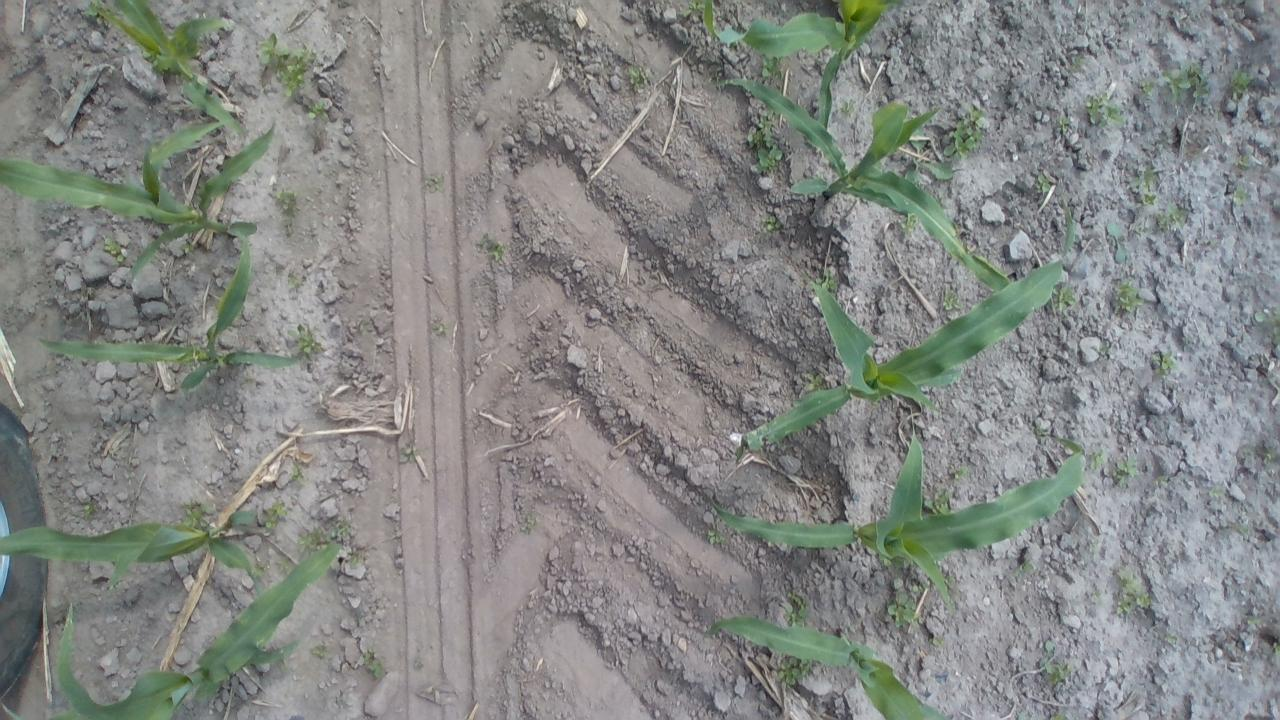Maize: (725, 193, 1075, 461), (707, 74, 1024, 302), (708, 430, 1092, 606), (0, 530, 349, 720), (38, 218, 327, 395), (1, 116, 284, 276), (698, 0, 914, 143), (706, 608, 962, 720), (89, 0, 254, 143), (0, 500, 270, 580)
Weeds: (256, 36, 320, 93), (939, 104, 988, 162), (746, 112, 785, 182), (1160, 62, 1212, 101), (1114, 566, 1152, 618), (1037, 639, 1076, 687), (1081, 87, 1126, 128), (289, 325, 327, 363), (886, 589, 919, 630), (1101, 221, 1130, 266), (622, 60, 658, 95), (1152, 202, 1186, 239), (776, 654, 816, 685), (1108, 280, 1144, 313), (356, 644, 385, 683), (180, 498, 213, 532), (296, 524, 328, 558), (1130, 168, 1158, 206), (268, 188, 302, 219), (780, 600, 815, 630), (474, 228, 506, 260), (1050, 286, 1083, 314), (1034, 168, 1062, 200), (1114, 458, 1140, 492), (813, 264, 840, 296), (676, 1, 721, 20), (1151, 351, 1178, 382), (105, 239, 132, 270), (1228, 66, 1254, 98), (401, 439, 430, 467), (924, 486, 954, 512), (762, 52, 789, 80), (263, 502, 290, 530), (82, 0, 110, 26), (286, 268, 313, 294), (420, 173, 450, 196), (894, 212, 920, 238), (798, 371, 826, 394), (940, 292, 966, 316), (908, 574, 934, 598), (1268, 304, 1280, 354), (307, 640, 338, 659), (1016, 710, 1074, 720), (346, 550, 370, 574), (1010, 560, 1036, 582), (759, 214, 780, 240), (1136, 70, 1154, 100), (1062, 54, 1084, 78), (1084, 449, 1108, 471), (520, 508, 540, 534), (331, 518, 350, 544), (839, 96, 860, 118), (311, 100, 332, 122), (286, 461, 307, 482), (1263, 445, 1280, 470), (708, 522, 724, 548), (1052, 112, 1072, 132), (429, 318, 450, 336), (1204, 485, 1228, 500), (1265, 637, 1280, 660), (1231, 184, 1248, 203), (1232, 148, 1248, 168), (280, 560, 296, 578), (1130, 222, 1147, 238), (931, 634, 948, 650), (952, 466, 969, 482), (357, 318, 372, 336), (1245, 612, 1262, 627), (1153, 472, 1168, 489), (1236, 521, 1250, 538)
